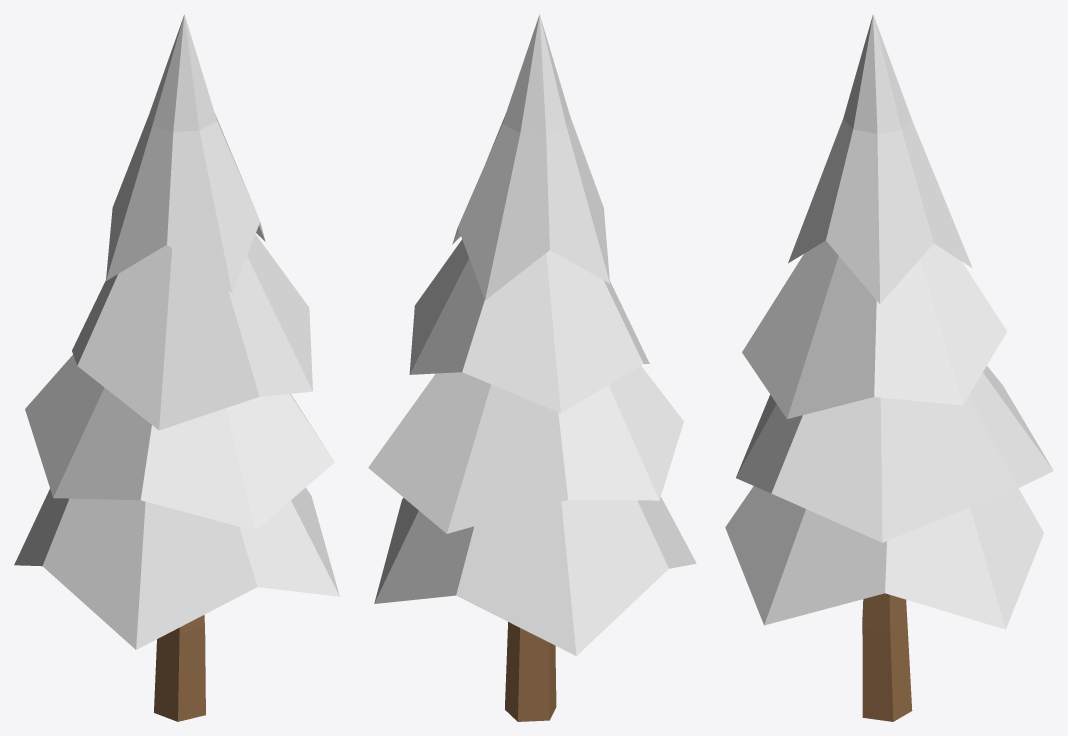
File: Pine_Tree_OneSided_m_Snow_02_LOD.fbx
3 views of the same model, side by side, from view 1: azimuth 30°, elevation 25°; view 2: azimuth 150°, elevation 25°; view 3: azimuth 270°, elevation 25° (orthographic).
Parts seen in each view (by area): view 1: Pine_Tree_OneSided_m_Snow_02_LOD0; view 2: Pine_Tree_OneSided_m_Snow_02_LOD0; view 3: Pine_Tree_OneSided_m_Snow_02_LOD0.
Part boxes in pixels (left/top/right/bottom): Pine_Tree_OneSided_m_Snow_02_LOD0: left=14, top=14, right=339, bottom=721; Pine_Tree_OneSided_m_Snow_02_LOD0: left=368, top=14, right=696, bottom=721; Pine_Tree_OneSided_m_Snow_02_LOD0: left=725, top=14, right=1053, bottom=721.
Size of what is drawn, in the model's own units: 430 by 1069 by 457.
